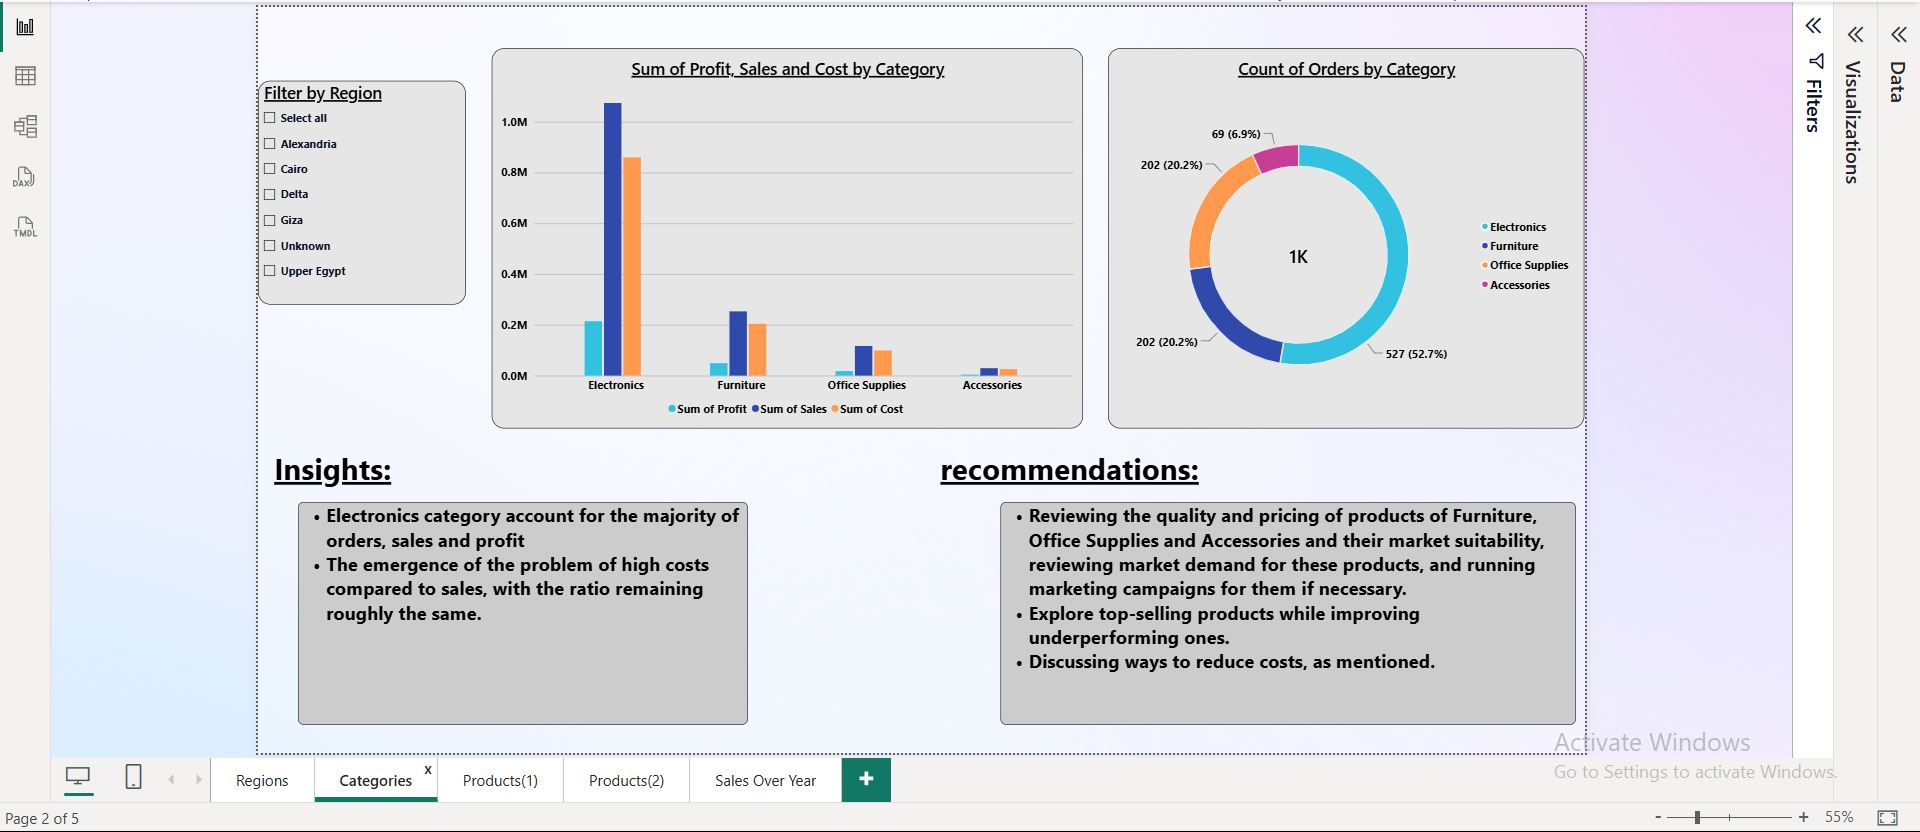

Layout of this report page (visuals, bound fields, positions):
{"tool":"powerbi","page":{"name":"Categories","canvas":[1920,1080],"ordinal":1},"visuals":[{"type":"donutChart","title":"Count of Orders by Category","fields":{"Category":["Sheet1.Category"],"Y":["CountNonNull(Sheet1.Category)"]},"box":[1230.6,59.7,689.5,550.1],"z":0},{"type":"clusteredColumnChart","title":"Sum of Profit, Sales and Cost by Category","fields":{"Category":["Sheet1.Category"],"Y":["Sum(Sheet1.Profit)","Sum(Sheet1.Sales)","Sum(Sheet1.Cost)"]},"box":[338.4,59.7,856,550.1],"z":1000},{"type":"slicer","fields":{"Values":["Sheet1.Region"]},"box":[0,106.8,300.4,323.9],"z":2000},{"type":"textbox","box":[23.5,638.8,300.4,97.7],"z":3000},{"type":"textbox","box":[57.9,716.6,651.5,322.1],"z":4000},{"type":"textbox","box":[988.1,638.8,485,77.8],"z":5000},{"type":"textbox","box":[1074.9,716.6,832.4,322.1],"z":6000}]}

Visuals, with their boxes on the page's 1920x1080 design canvas (x1, y1, x2, y2). These are canvas units, not pixel positions in the 1920x832 screenshot, which may show the page scaled, cropped or inside an application window:
"Count of Orders by Category" donutChart: bbox(1231, 60, 1920, 610)
"Sum of Profit, Sales and Cost by Category" clusteredColumnChart: bbox(338, 60, 1194, 610)
slicer - Sheet1.Region: bbox(0, 107, 300, 431)
textbox: bbox(24, 639, 324, 736)
textbox: bbox(58, 717, 709, 1039)
textbox: bbox(988, 639, 1473, 717)
textbox: bbox(1075, 717, 1907, 1039)
